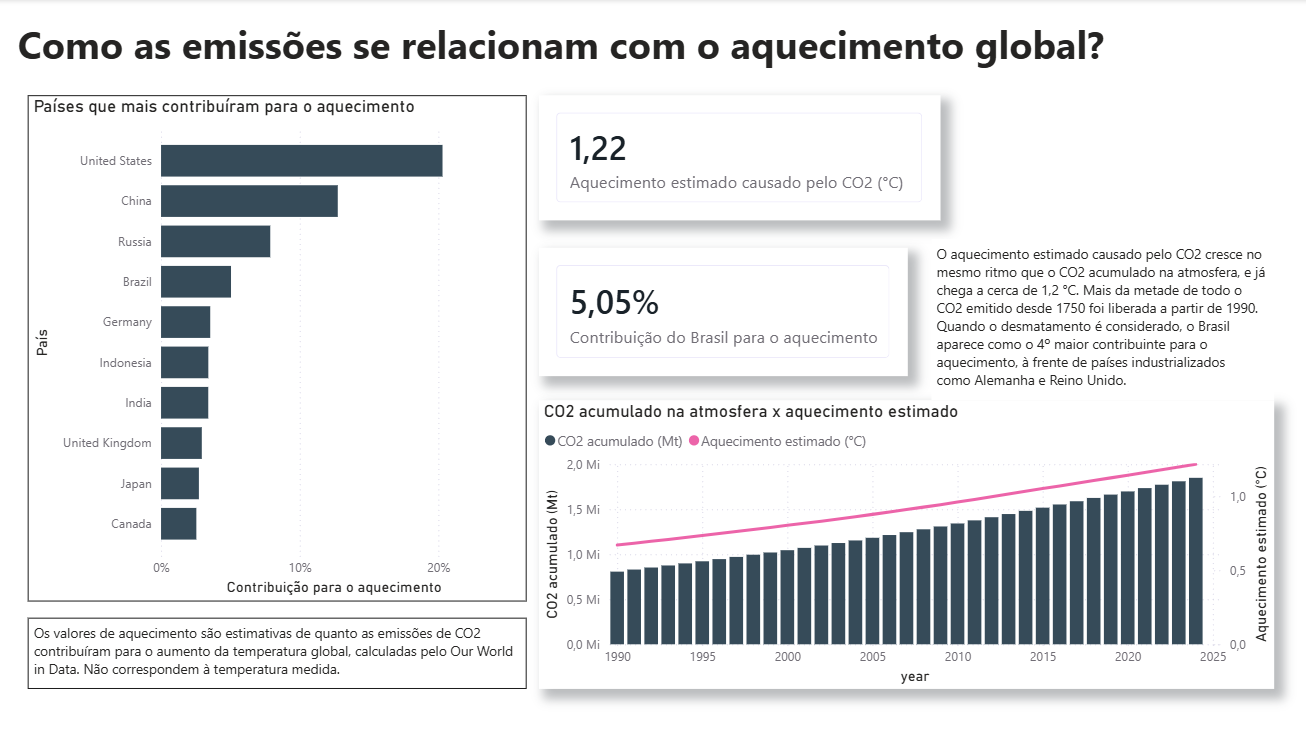

This screenshot's page, from the dashboard's own definition file:
{"tool":"powerbi","page":{"name":"Clima","canvas":[1280,720],"ordinal":5},"visuals":[{"type":"textbox","box":[13.5,13.5,1109.1,67.3],"z":0},{"type":"lineStackedColumnComboChart","title":"CO2 acumulado na atmosfera x aquecimento estimado","fields":{"Category":["dAno.year"],"Y":["Emissoes.Acumulado Mundo"],"Y2":["Emissoes.Aquecimento Mundo"]},"box":[528.3,392.5,719,282.5],"z":1},{"type":"cardVisual","fields":{"Data":["Emissoes.Aquecimento Mundo"]},"box":[528.3,94.2,392.5,122.3],"z":2},{"type":"cardVisual","fields":{"Data":["Emissoes.Contribuicao Aquecimento"]},"box":[528.3,243.3,360.7,126],"z":3},{"type":"clusteredBarChart","title":"Países que mais contribuíram para o aquecimento","fields":{"Category":["dPais.country"],"Y":["Emissoes.Contribuicao Aquecimento"]},"box":[28.1,94.2,487.9,495.2],"z":4},{"type":"textbox","box":[28.1,605.3,487.9,69.7],"z":5},{"type":"textbox","box":[912.2,234.8,335.1,157.7],"z":6}]}

Visuals, with their boxes in screenshot pixels (x1, y1, x2, y2), scaled from the page's 1280x720 canvas onto the 1306x732 screenshot:
textbox: 14 14 1145 82
"CO2 acumulado na atmosfera x aquecimento estimado" lineStackedColumnComboChart: 539 399 1273 686
cardVisual - Emissoes.Aquecimento Mundo: 539 96 940 220
cardVisual - Emissoes.Contribuicao Aquecimento: 539 247 907 375
"Países que mais contribuíram para o aquecimento" clusteredBarChart: 29 96 526 599
textbox: 29 615 526 686
textbox: 931 239 1273 399
